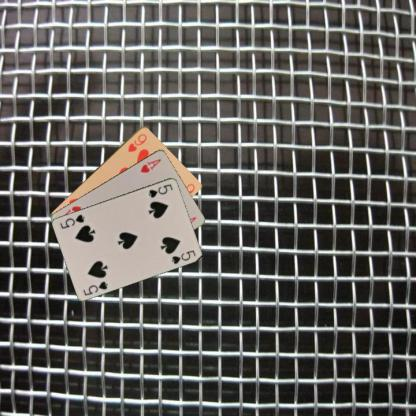5s: (80, 278, 110, 297), (146, 181, 174, 199)
9h: (125, 131, 148, 153)
Ah: (138, 156, 162, 174)
